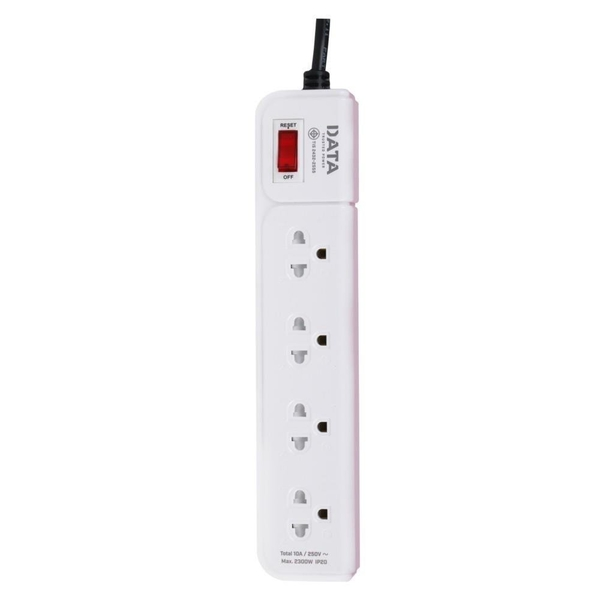Three_eye_plug: (240, 70, 374, 590)
